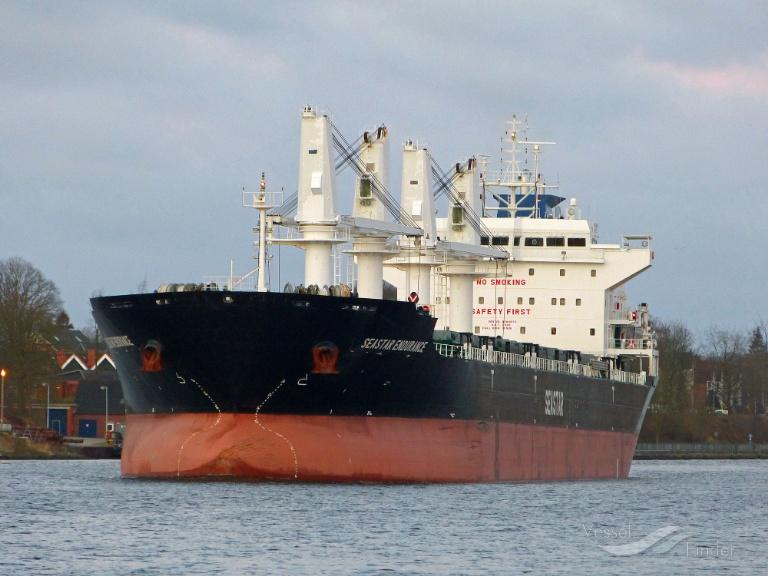OCR: (358, 330, 431, 358), (539, 382, 564, 420)
